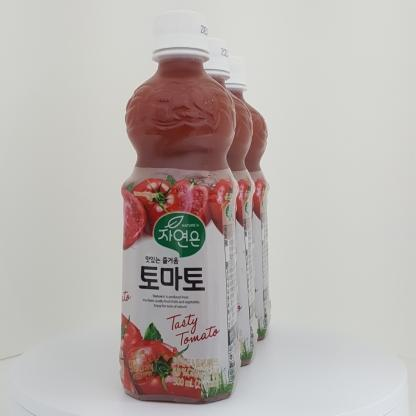--------500ML: (119, 10, 242, 405)
